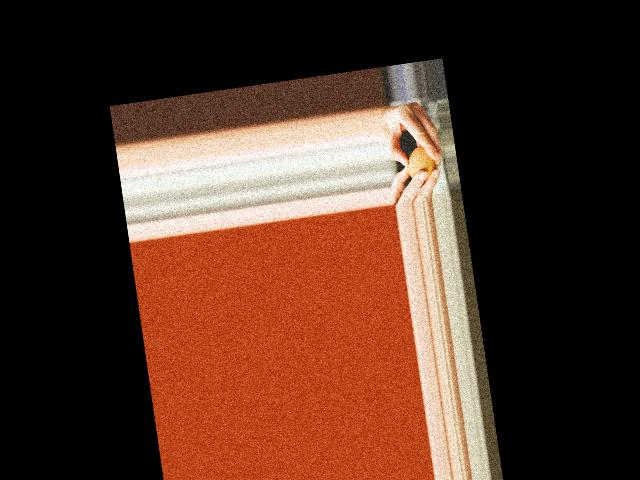egg: (404, 144, 438, 182)
